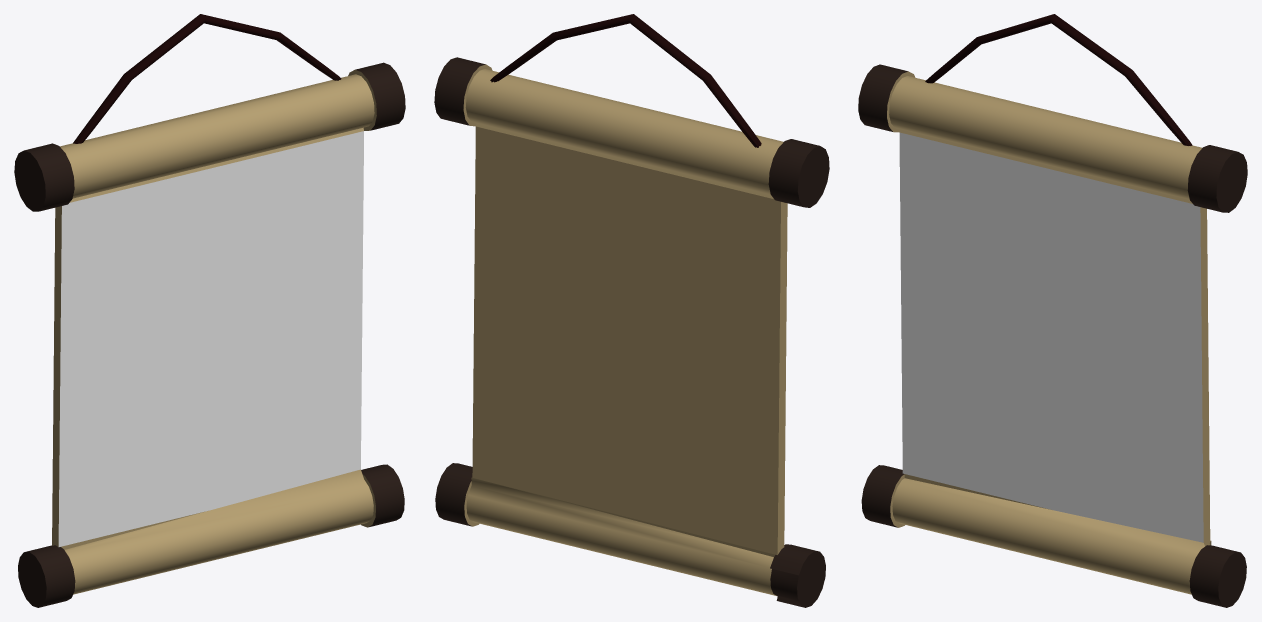
File: ScrollModel.FBX
3 renders of one model, left to right at view 1: azimuth 30°, elevation 25°; view 2: azimuth 150°, elevation 25°; view 3: azimuth 330°, elevation 25°, orthographic.
Parts seen in each view (by area): view 1: Cylinder002; view 2: Cylinder002; view 3: Cylinder002.
Boxes of the visible parts, <box> form: Cylinder002: <box>14,14,405,607</box>; Cylinder002: <box>434,14,829,607</box>; Cylinder002: <box>858,14,1247,607</box>.
Size of the model in its own units: 26.99 by 39.09 by 4.08.
